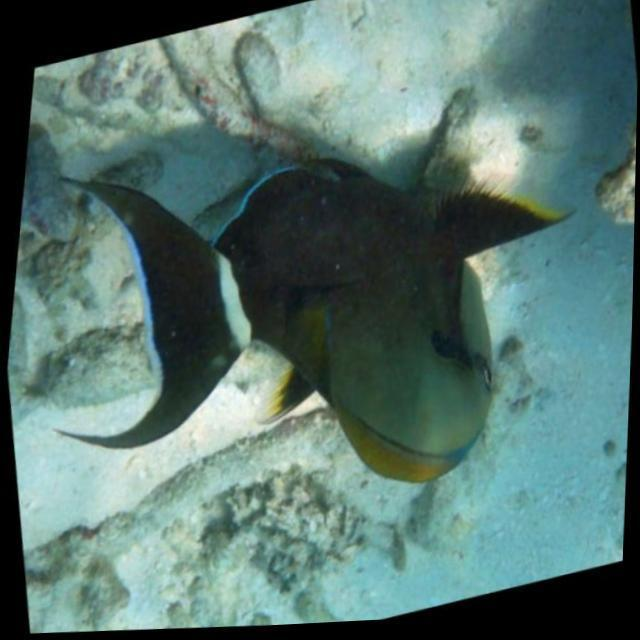Dead Coral: (5, 403, 373, 640), (1, 323, 142, 420)
